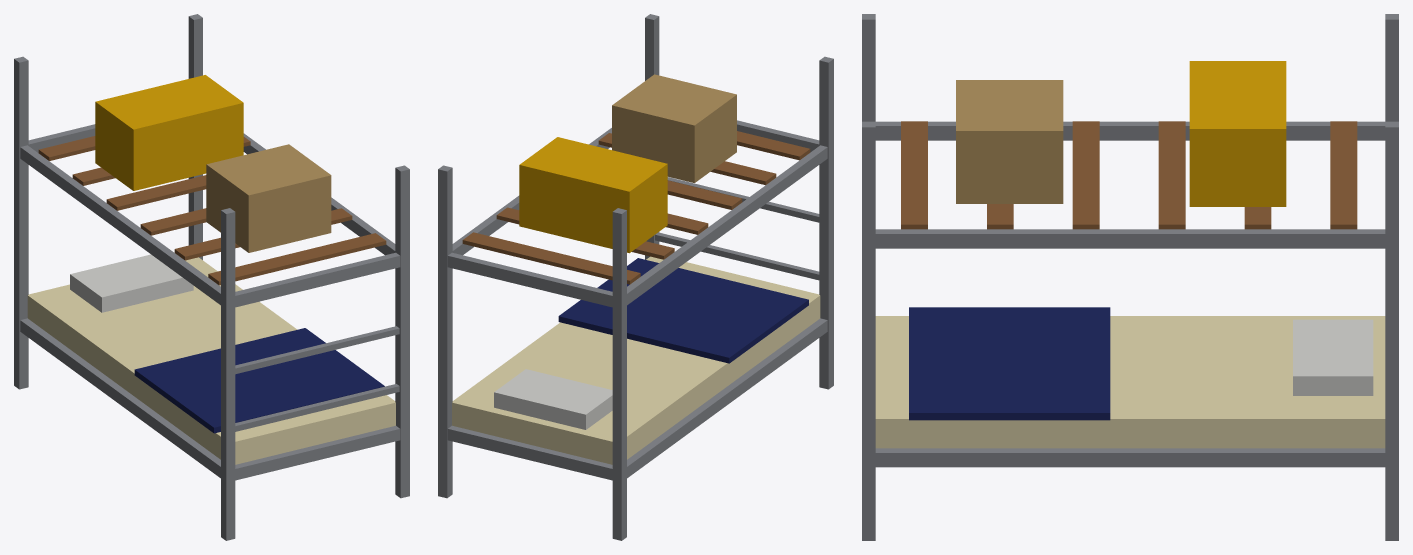
File: prop_bunk-bed.glb
The picture shows the model from 3 angles, left to right: view 1: azimuth 30°, elevation 25°; view 2: azimuth 150°, elevation 25°; view 3: azimuth 270°, elevation 25°; orthographic projection. The views are drawn at different scales.
Visible parts, largest first — view 1: body; view 2: body; view 3: body.
Part boxes in pixels (x1,y1,x2,y2): body: (14,14,409,540); body: (438,14,833,540); body: (862,14,1398,540).
Size of the model in its own units: 1 by 1.7 by 2.
